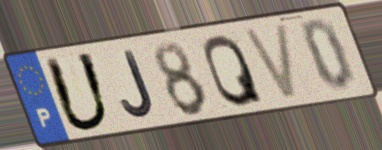0: (302, 16, 358, 94)
8: (151, 39, 210, 117)
J: (119, 48, 158, 121)
Q: (201, 32, 266, 109)
U: (41, 50, 114, 135)
V: (239, 20, 301, 104)
